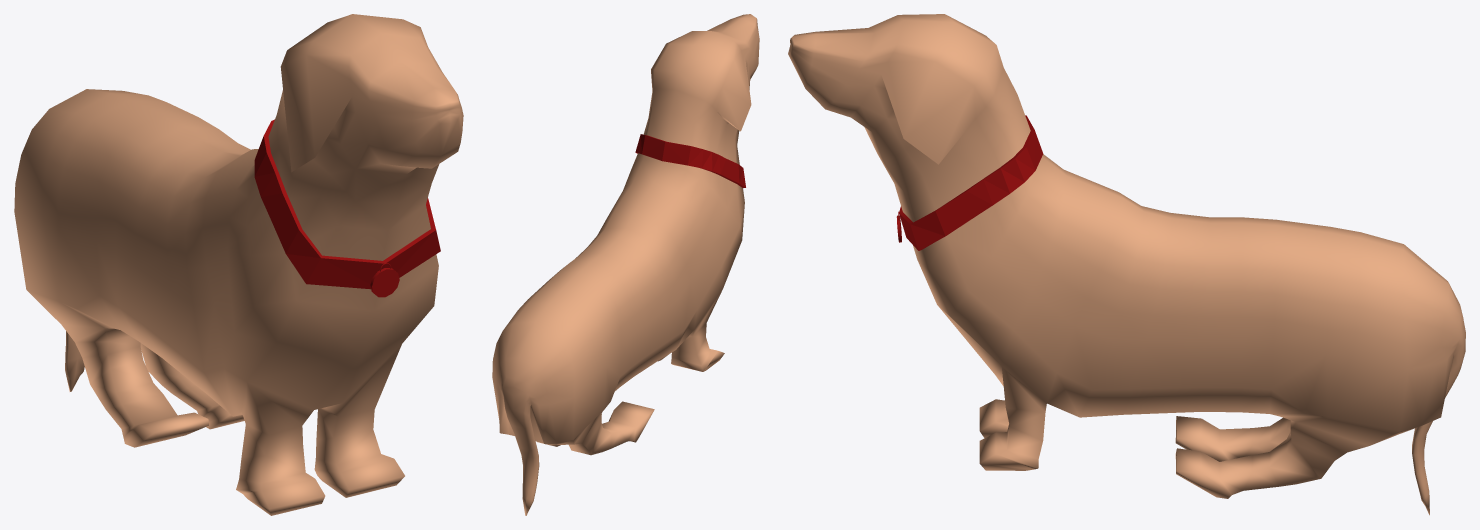
File: taffyUpdated.FBX
3 renders of one model, left to right at view 1: azimuth 30°, elevation 25°; view 2: azimuth 150°, elevation 25°; view 3: azimuth 270°, elevation 25°, orthographic. The views are drawn at different scales.
Parts seen in each view (by area): view 1: dog; view 2: dog; view 3: dog.
Part boxes in pixels (box(x1,y1,x2,y2)): dog: box(14, 14, 463, 515); dog: box(492, 14, 759, 515); dog: box(788, 14, 1465, 515).
Size of the model in its own units: 7.19 by 23.11 by 28.67.
